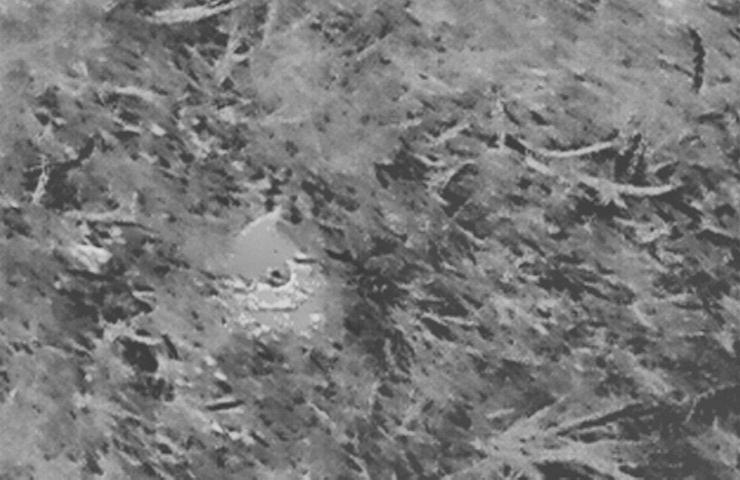landmines: (220, 207, 329, 327)
